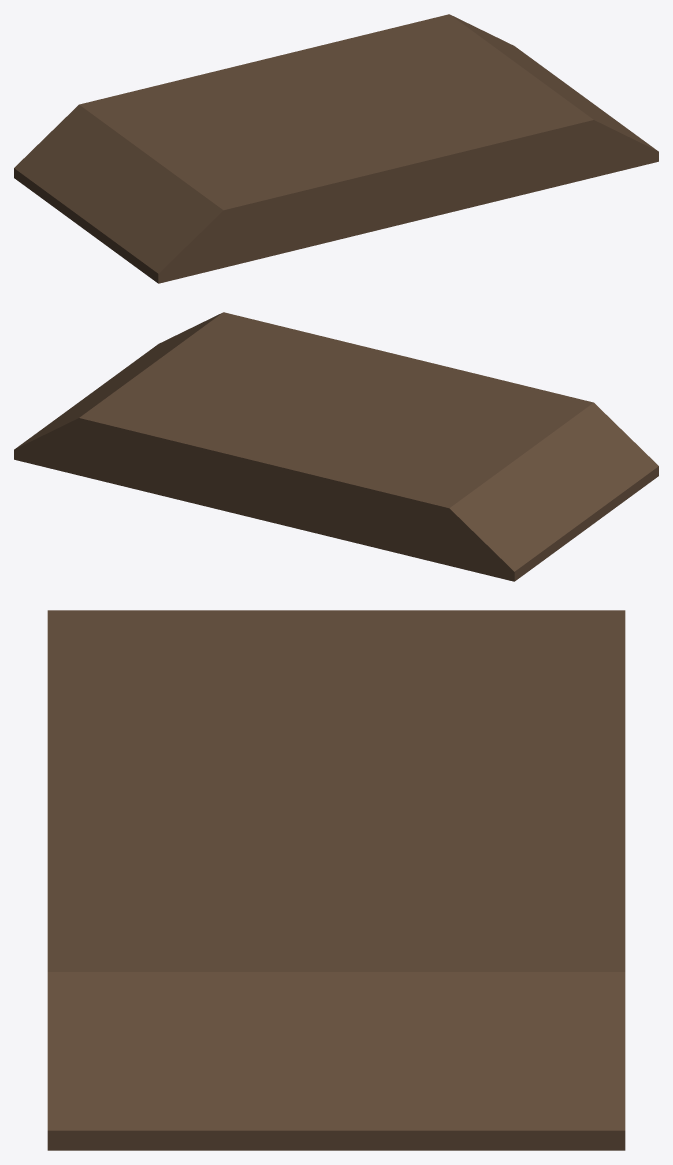
File: body.fbx
The picture shows the model from 3 angles, top to bottom: view 1: azimuth 30°, elevation 25°; view 2: azimuth 150°, elevation 25°; view 3: azimuth 270°, elevation 25°; orthographic projection. The views are drawn at different scales.
Parts seen in each view (by area): view 1: p411_Body.001; view 2: p411_Body.001; view 3: p411_Body.001.
Boxes of the visible parts, box(x1,y1,x2,y2) form: p411_Body.001: box(14, 14, 658, 283); p411_Body.001: box(14, 312, 658, 581); p411_Body.001: box(47, 610, 625, 1150).
Size of the model in its own units: 5 by 0.55 by 2.5.
